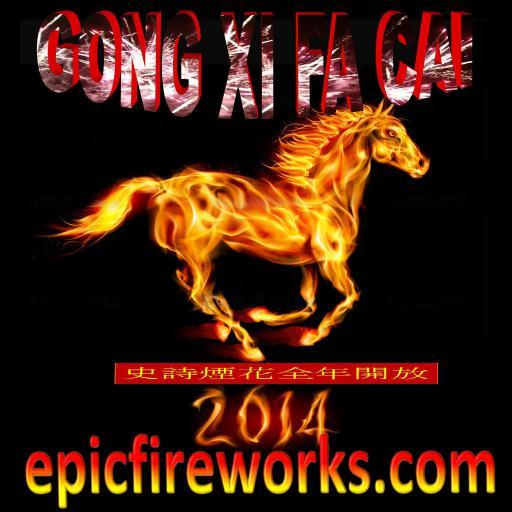Horse: (46, 95, 430, 365)
